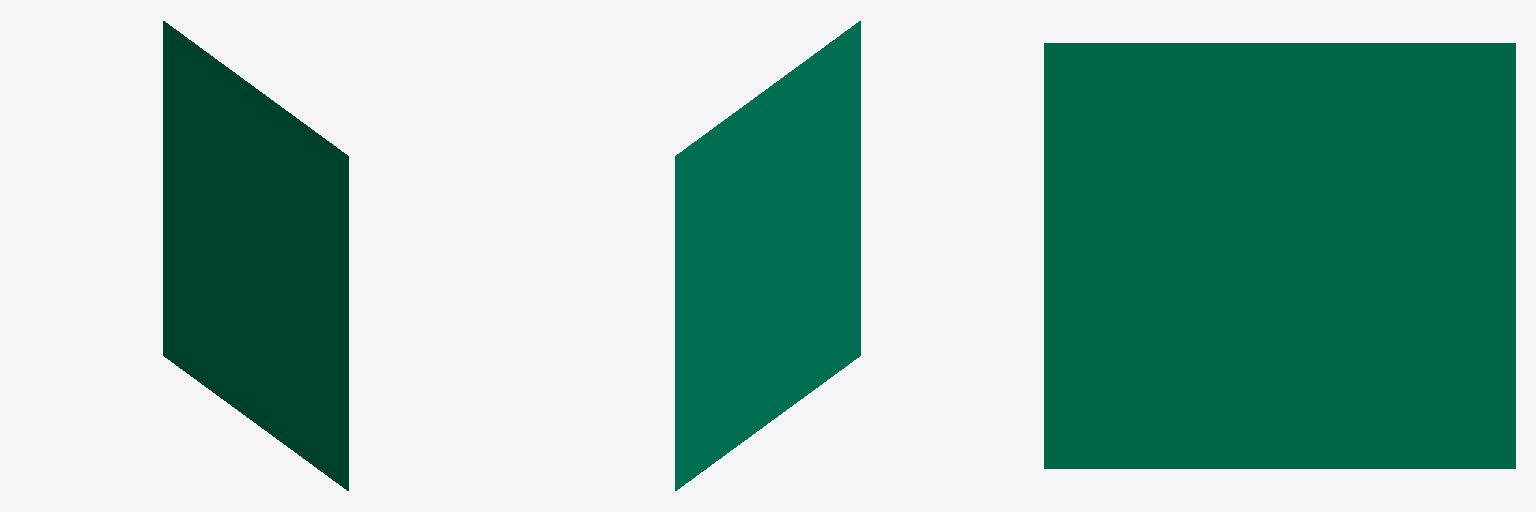
The robot description file, URDF, robot "cso_visualization":
<?xml version="1.0"?>
<robot name="cso_visualization">

    <link name="teme">
        <visual>
          <geometry>
           <mesh filename="package://cso_gnc_sim/res/meshes/earth-mesh.stl" scale="1 1 1">
            </mesh>
          </geometry>
          <material name="texture">
		<texture filename="package://cso_gnc_sim/res/meshes/1_earth_8k.jpg"/>
	  </material>
        </visual>
    </link>

    <link name="cso">
        <visual>
          <geometry>
            <mesh filename="package://cso_gnc_sim/res/meshes/cso-mesh.stl" scale="0.001 0.001 0.001">
            </mesh>
          </geometry>
          <origin rpy="0 0 0" xyz="0 0 0"/>
        </visual>
    </link>

    <link name="target">
        <visual>
            <geometry>
                <box size="0.1 0.1 0.1"/>
            </geometry>
            <material name="blue" />
            <origin rpy="0 1.57075 0" xyz="0 0 0"/>
        </visual>
    </link>

    <joint name="target2teme" type="fixed">
        <parent link="teme"/>
        <child link="target"/>
        <origin xyz="7000000 0 0 "/>
    </joint>

    <joint name="cso2teme" type="fixed">
        <parent link="teme"/>
        <child link="cso"/>
        <origin xyz="0 0 0 "/>
    </joint>
 </robot>

--- What the picture shows (computed from the rendered views, not written in the file) ---
3 views of the same robot in one strip: view 1: azimuth 30°, elevation 25°; view 2: azimuth 150°, elevation 25°; view 3: azimuth 270°, elevation 25° (orthographic).
Model cso_visualization with 3 links and 2 joints (2 fixed), rooted at teme, posed every joint at zero.
Links seen in each view (by area): view 1: target; view 2: target; view 3: target.
Link boxes in pixels (<box>): target: <box>163,21,348,490</box>; target: <box>675,21,860,490</box>; target: <box>1044,43,1515,468</box>.
Bounding box of the posed robot: 0 × 0.1 × 0.1 m (x, y, z).
0 mesh visuals loaded from 2 distinct referenced files (none loaded); not drawn: 2 (reference not matched to a file when rendering).